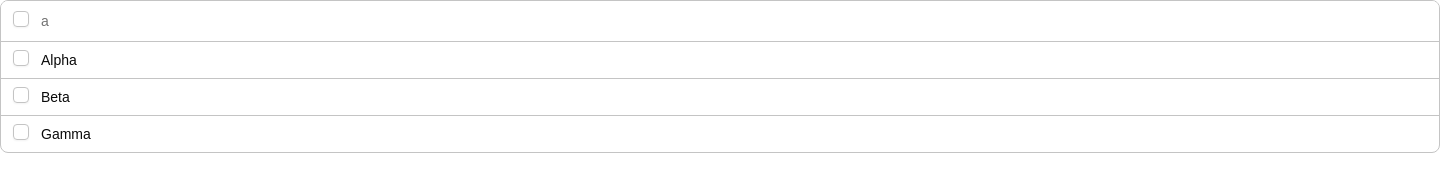
DataTable overflow tooltip › closes on mouse down and stays off for the rest of the drag, until the button is released
Hover over the cell "Alpha": point(59, 60) [33,41,233,78]
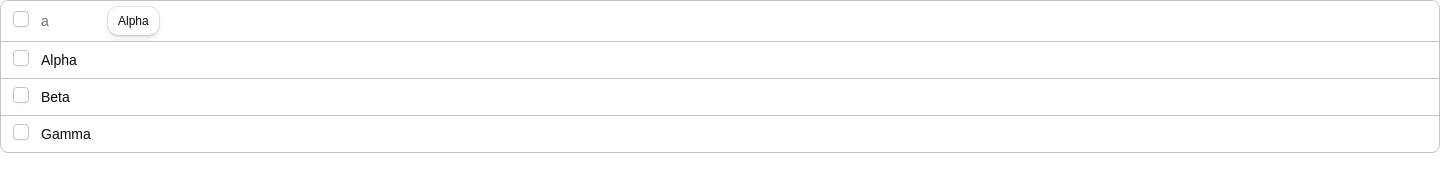
Expected: the tooltip "Alpha" is shown, [108,7,159,35]
Press the mouse on the cell "Alpha": point(59, 60) [33,41,233,78]
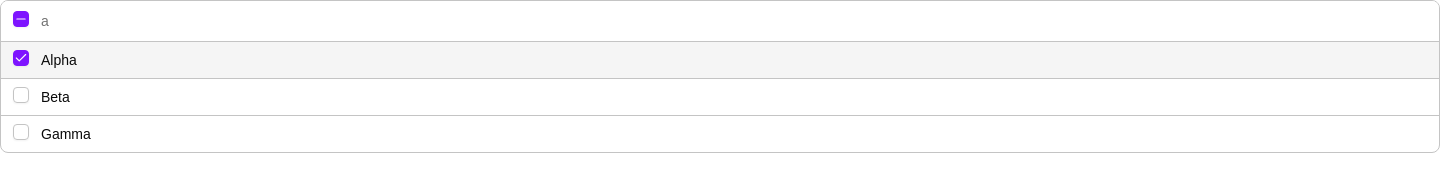
Hover over the cell "Beta": point(55, 96) [33,78,233,115]
Hover over the cell "Gamma": point(66, 134) [33,115,233,152]
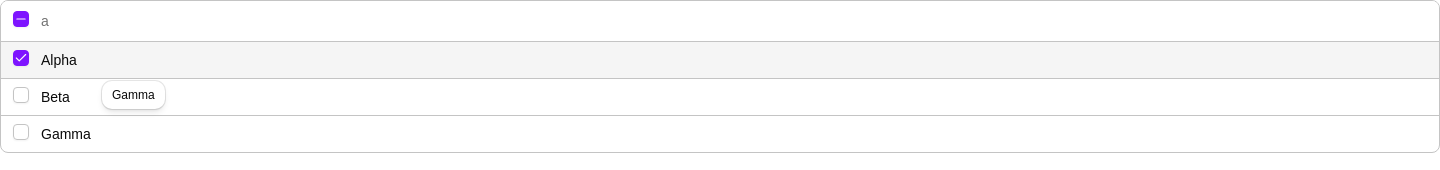
Expected: the tooltip "Gamma" is shown, [102,81,165,109]
